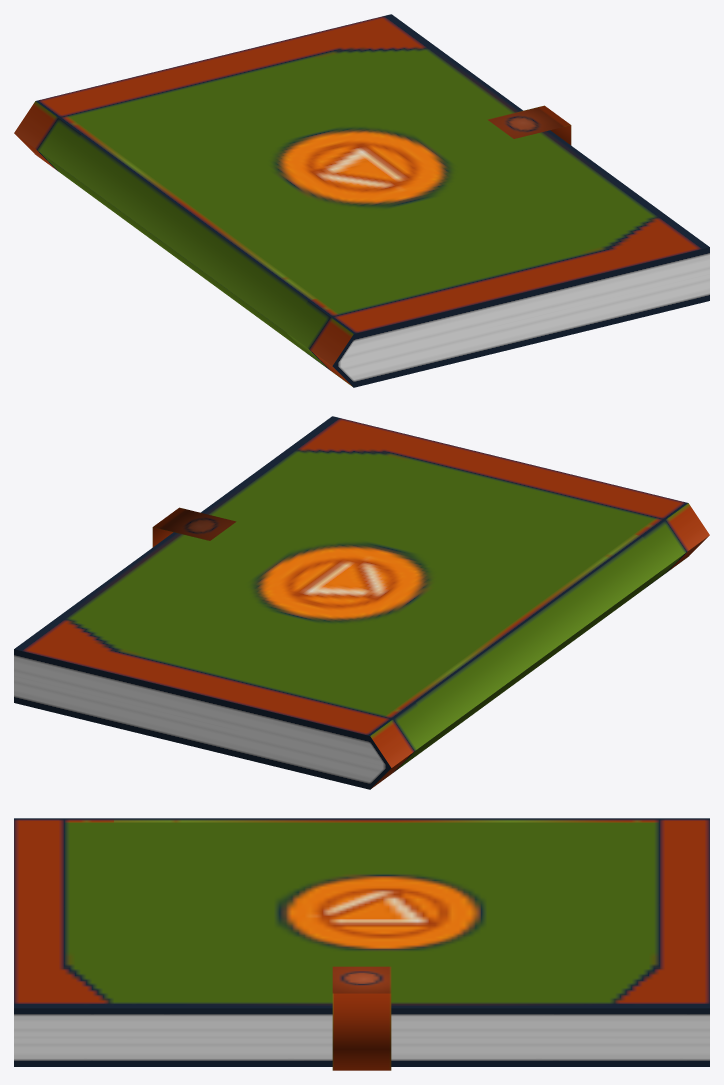
Rendered from book2-4.FBX.
3 views of the same model, one above another, from view 1: azimuth 30°, elevation 25°; view 2: azimuth 150°, elevation 25°; view 3: azimuth 270°, elevation 25° (orthographic). The views are drawn at different scales.
Visible parts, largest first — view 1: Plane001; view 2: Plane001; view 3: Plane001.
Boxes of the visible parts, x1,y1,x2,y2 form: Plane001: [14, 14, 709, 387]; Plane001: [14, 416, 709, 789]; Plane001: [14, 818, 709, 1070].
Size of the model in its own units: 41.59 by 6.95 by 59.61.
Materials: 1 (1 with a texture image).
